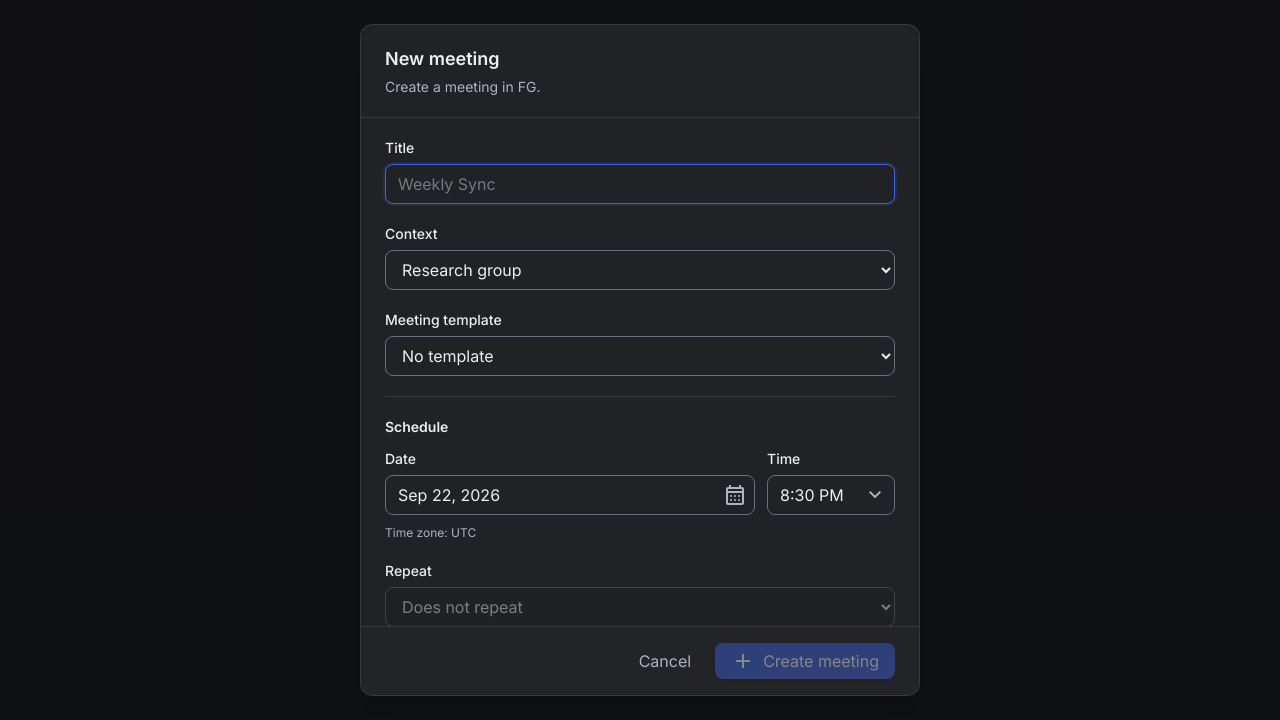
it: CreateMeetingDialog date calendar › opens from the date affordance with an expanded state
Click the button named "Choose date" at [735, 495], box [721,481,749,509]
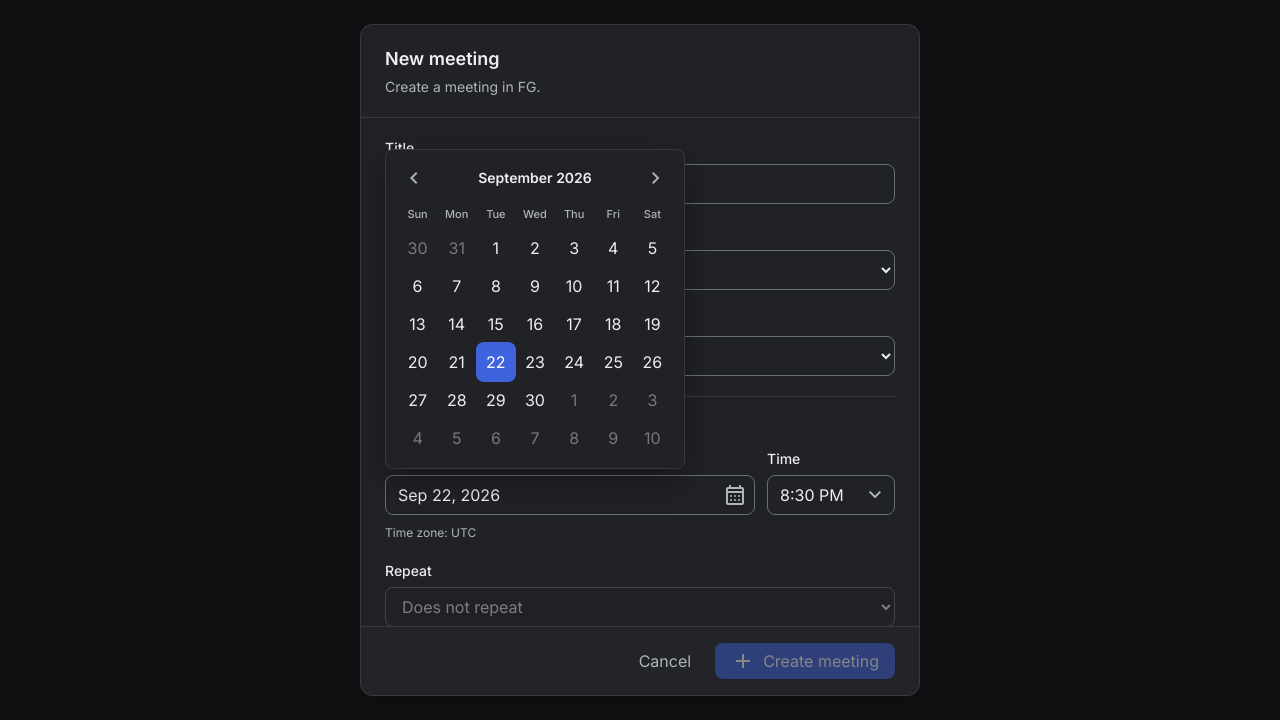
expect the table is shown: met, box [385,148,685,469]
